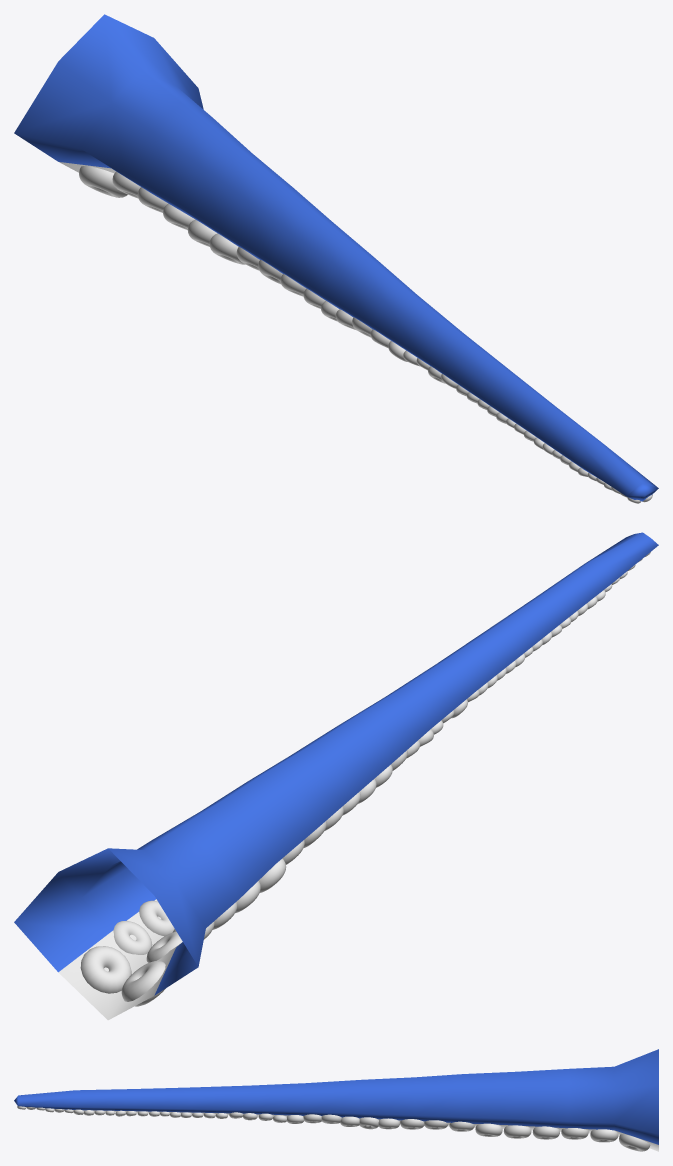
The model's file is tentacle01.fbx.
The picture shows the model from 3 angles, top to bottom: view 1: azimuth 30°, elevation 25°; view 2: azimuth 150°, elevation 25°; view 3: azimuth 270°, elevation 25°; orthographic projection. The views are drawn at different scales.
Parts seen in each view (by area): view 1: OctoGeo; view 2: OctoGeo; view 3: OctoGeo.
Boxes of the visible parts, x1,y1,x2,y2 form: OctoGeo: [14, 14, 658, 503]; OctoGeo: [14, 532, 658, 1020]; OctoGeo: [14, 1049, 658, 1151].
Bounding box in the file's own units: 4.8 × 4.28 × 24.31.
